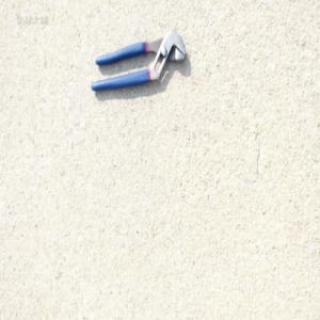Pliertrack_idkeyframe: (89, 27, 185, 92)
